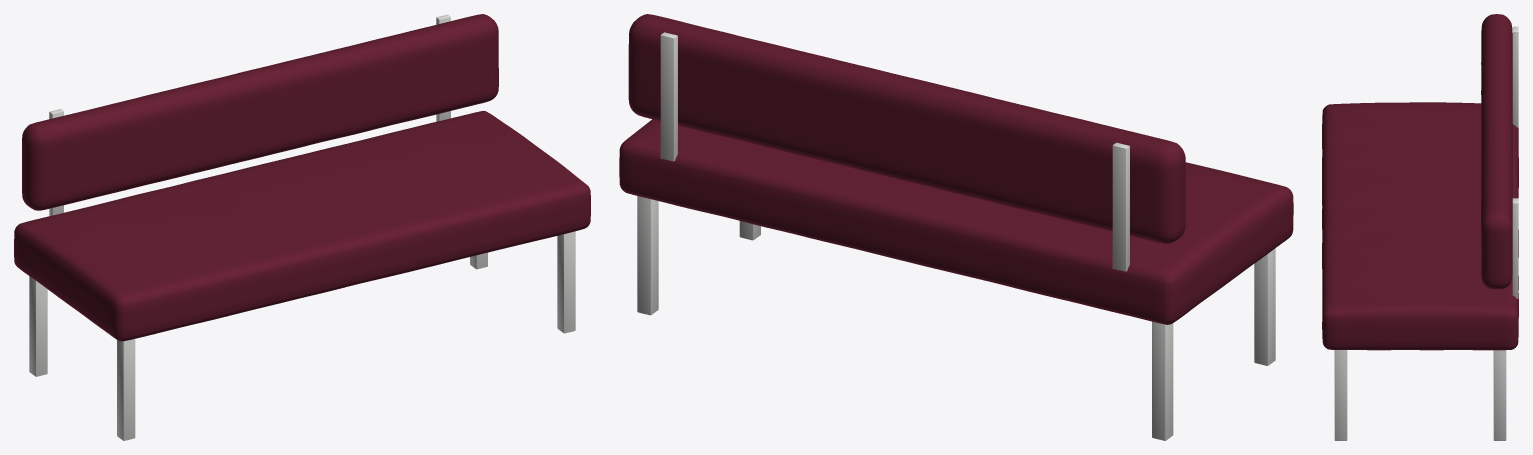
The model's file is recgYxPSaEuALAOLX.glb.
The picture shows the model from 3 angles, left to right: view 1: azimuth 30°, elevation 25°; view 2: azimuth 150°, elevation 25°; view 3: azimuth 270°, elevation 25°; orthographic projection. The views are drawn at different scales.
Visible parts, largest first — view 1: Banquette_Assise, Banquette_Dossier, Banquette_Pieds_Montants; view 2: Banquette_Dossier, Banquette_Assise, Banquette_Pieds_Montants; view 3: Banquette_Assise, Banquette_Dossier, Banquette_Pieds_Montants.
Boxes of the visible parts, x1,y1,x2,y2 form: Banquette_Assise: (14, 110, 590, 341); Banquette_Dossier: (22, 14, 498, 210); Banquette_Pieds_Montants: (29, 14, 575, 440); Banquette_Dossier: (628, 14, 1185, 243); Banquette_Assise: (619, 119, 1293, 324); Banquette_Pieds_Montants: (637, 32, 1275, 440); Banquette_Assise: (1322, 102, 1518, 350); Banquette_Dossier: (1481, 14, 1512, 289); Banquette_Pieds_Montants: (1334, 26, 1518, 440).
Bounding box in the file's own units: 1.6 × 0.8046 × 0.6313.
